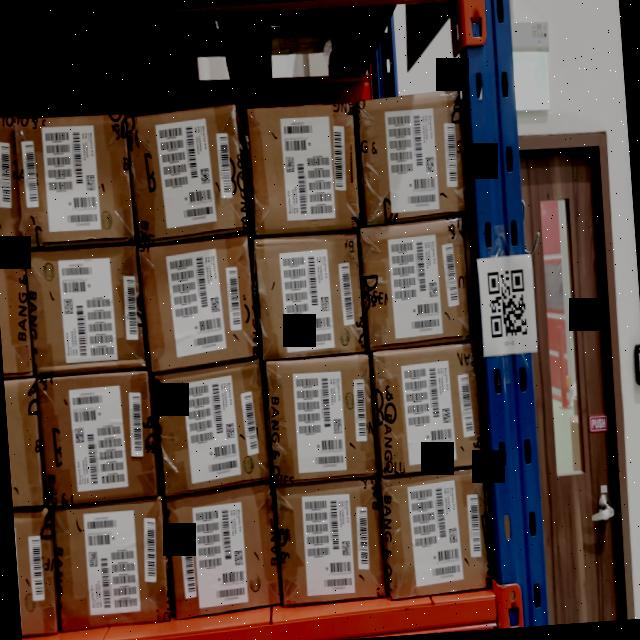box: (13, 114, 134, 250), (37, 373, 156, 508), (246, 100, 361, 232), (131, 110, 245, 241), (24, 250, 144, 374), (141, 242, 254, 370), (51, 506, 166, 631), (374, 344, 483, 474), (267, 355, 376, 483), (154, 372, 266, 494), (168, 494, 278, 616), (363, 227, 475, 346), (275, 484, 384, 606), (257, 231, 364, 353), (360, 98, 464, 220), (383, 478, 489, 592)
